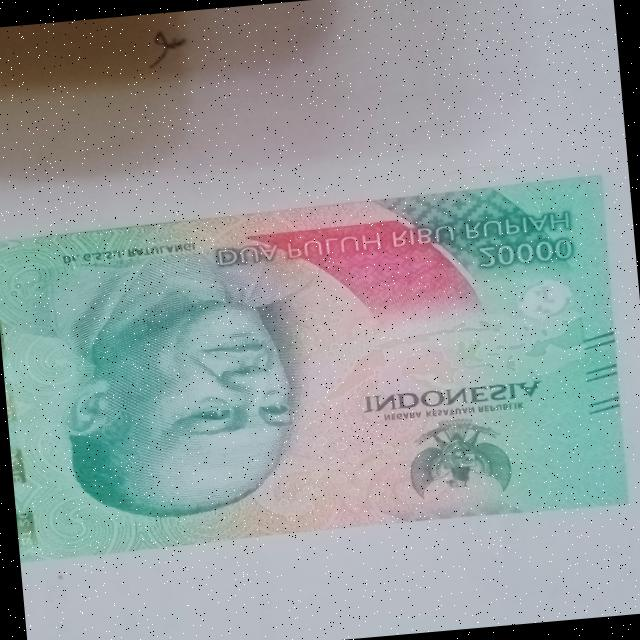20K: (0, 162, 640, 568)
